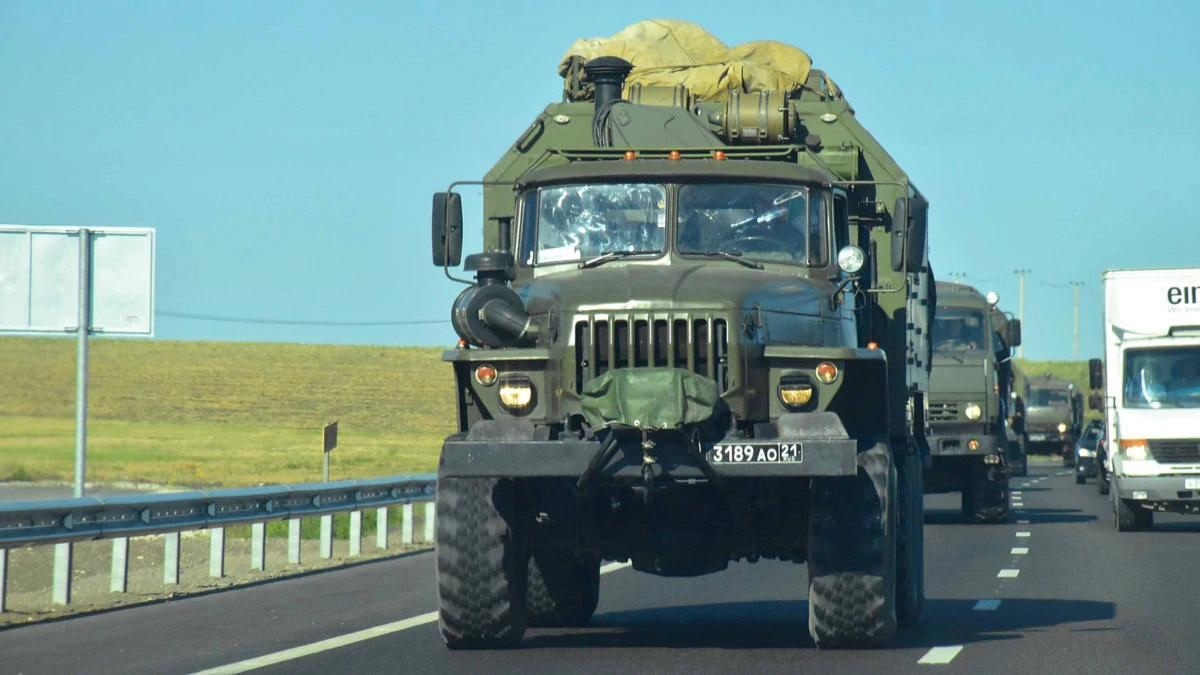truck: (440, 46, 927, 640), (923, 284, 1027, 525), (1016, 372, 1084, 486)
